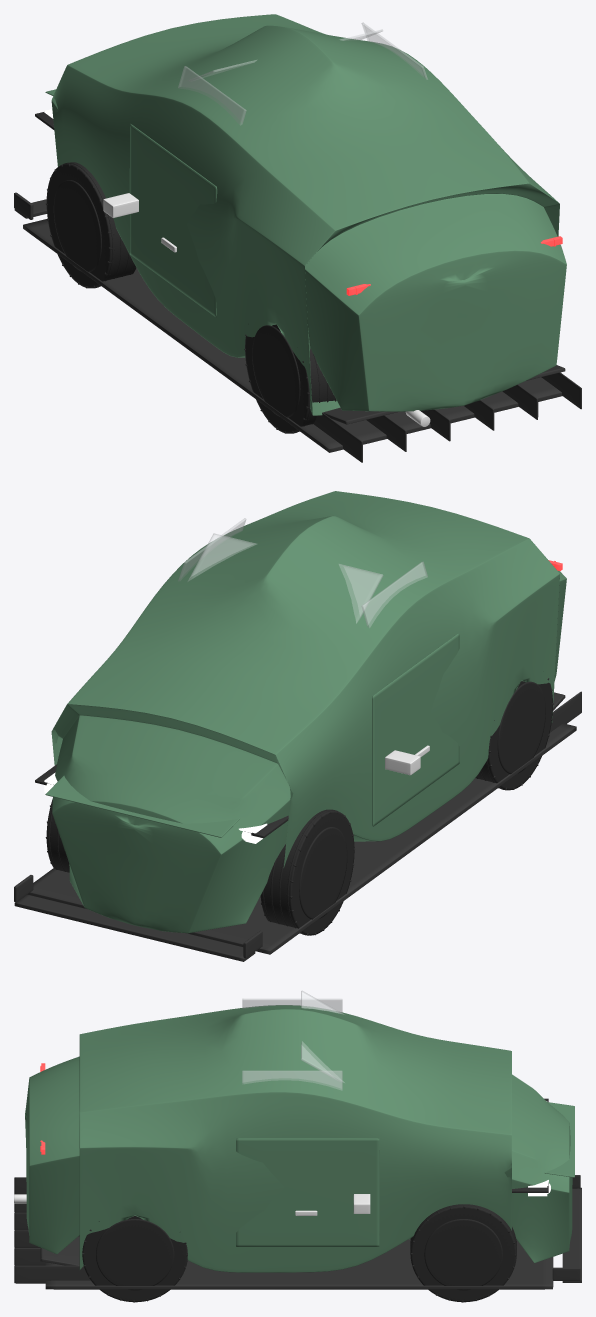
Rendered from Car_Land_Rover_Defender_90_1990s_Complete.glb.
The picture shows the model from 3 angles, top to bottom: view 1: azimuth 30°, elevation 25°; view 2: azimuth 150°, elevation 25°; view 3: azimuth 270°, elevation 25°; orthographic projection. The views are drawn at different scales.
Visible parts, largest first — view 1: BODY_MainShell, UNDERBODY_FlatFloor, BODY_Door_FL, WHEEL_FL_Tire, WHEEL_RL_Tire, GLASS_Greenhouse, JEWELRY_Hardware, AERO_FrontSplitter; view 2: BODY_MainShell, BODY_Door_FL, UNDERBODY_FlatFloor, WHEEL_FL_Tire, WHEEL_RL_Tire, GLASS_Greenhouse, AERO_FrontSplitter, BODY_Hood, WHEEL_FR_Tire, JEWELRY_Hardware; view 3: BODY_MainShell, BODY_Door_FR, UNDERBODY_FlatFloor, WHEEL_FR_Tire, WHEEL_RR_Tire, GLASS_Greenhouse, AERO_FrontSplitter, BODY_Hood, JEWELRY_Hardware.
Part boxes in pixels (left/top/right/bottom): BODY_MainShell: left=51, top=14, right=566, bottom=415; UNDERBODY_FlatFloor: left=23, top=218, right=581, bottom=462; BODY_Door_FL: left=129, top=123, right=217, bottom=317; WHEEL_FL_Tire: left=46, top=162, right=136, bottom=288; WHEEL_RL_Tire: left=244, top=324, right=336, bottom=433; GLASS_Greenhouse: left=178, top=22, right=427, bottom=125; JEWELRY_Hardware: left=103, top=193, right=176, bottom=252; AERO_FrontSplitter: left=14, top=192, right=46, bottom=219; BODY_MainShell: left=51, top=491, right=566, bottom=933; BODY_Door_FL: left=372, top=633, right=459, bottom=826; UNDERBODY_FlatFloor: left=27, top=691, right=581, bottom=954; WHEEL_FL_Tire: left=260, top=809, right=355, bottom=935; WHEEL_RL_Tire: left=475, top=678, right=553, bottom=790; GLASS_Greenhouse: left=178, top=518, right=427, bottom=627; AERO_FrontSplitter: left=14, top=875, right=262, bottom=961; BODY_Hood: left=45, top=775, right=239, bottom=837; WHEEL_FR_Tire: left=45, top=799, right=69, bottom=872; JEWELRY_Hardware: left=385, top=745, right=429, bottom=775; BODY_MainShell: left=25, top=1005, right=572, bottom=1272; BODY_Door_FR: left=236, top=1138, right=379, bottom=1246; UNDERBODY_FlatFloor: left=14, top=1177, right=553, bottom=1289; WHEEL_FR_Tire: left=410, top=1204, right=516, bottom=1302; WHEEL_RR_Tire: left=82, top=1215, right=187, bottom=1302; GLASS_Greenhouse: left=242, top=990, right=344, bottom=1090; AERO_FrontSplitter: left=552, top=1175, right=581, bottom=1282; BODY_Hood: left=544, top=1102, right=574, bottom=1177; JEWELRY_Hardware: left=295, top=1194, right=370, bottom=1215.
Size of what is drawn, in the model's own units: 2.11 by 1.94 by 4.08.
